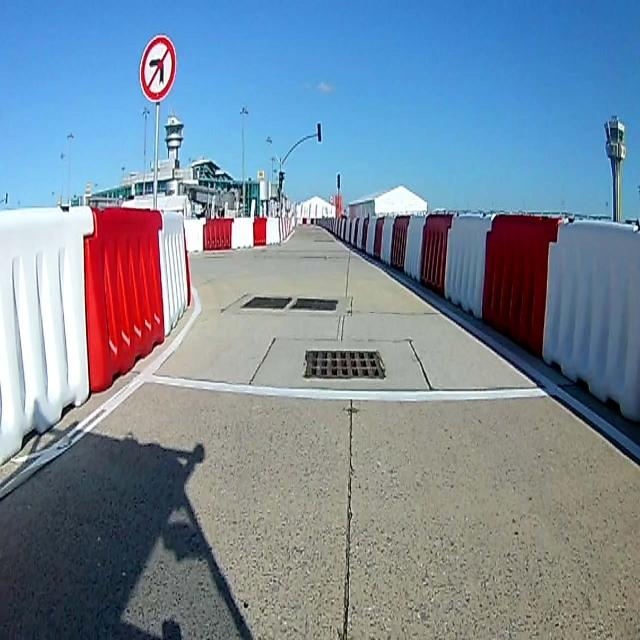soladonulmez: (139, 33, 177, 103)
